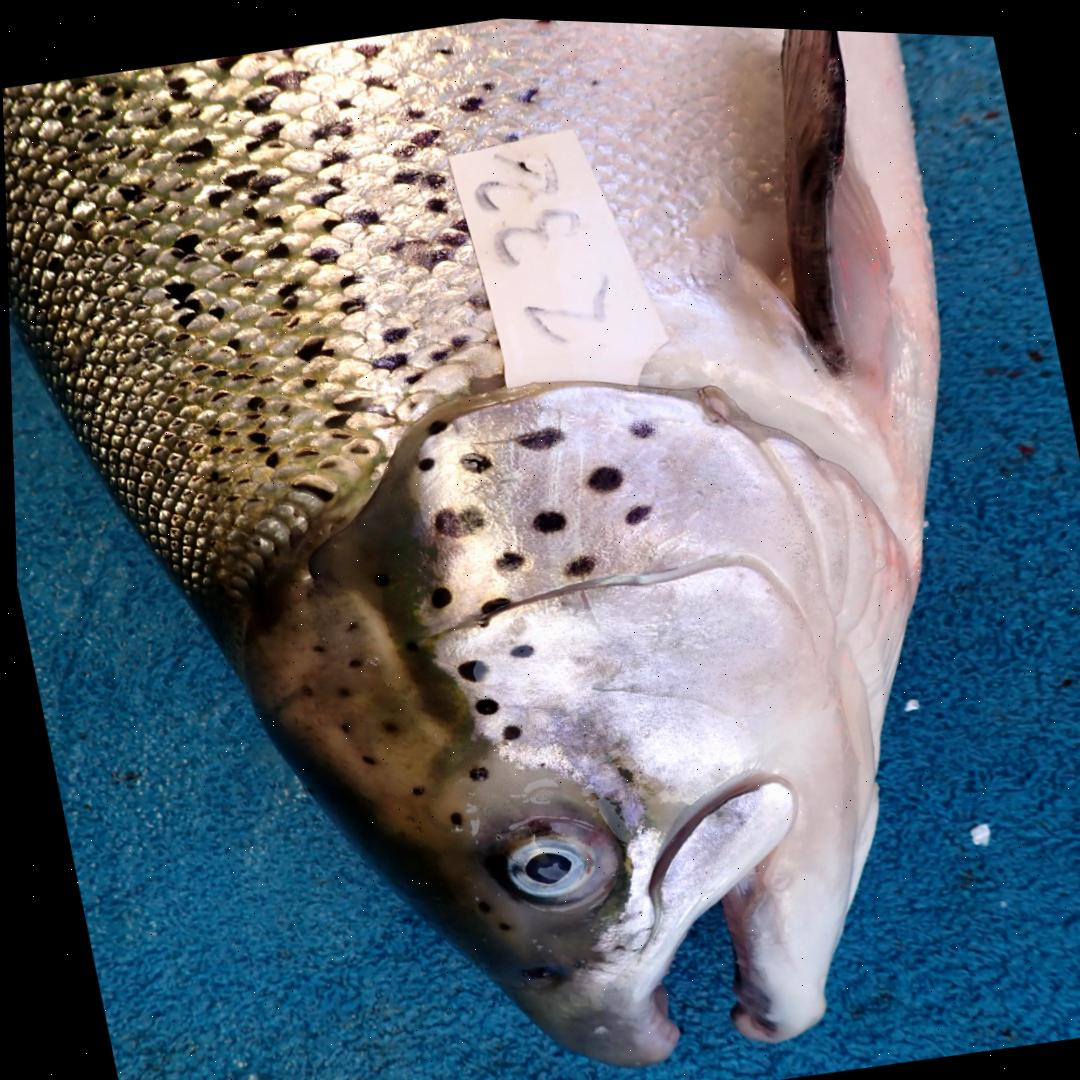spot: (430, 503, 481, 534), (582, 459, 621, 487), (512, 422, 559, 445), (528, 506, 563, 528), (561, 550, 593, 573), (453, 655, 483, 677), (456, 447, 487, 468), (491, 546, 521, 566), (620, 498, 648, 519), (625, 415, 653, 432), (477, 593, 506, 609), (427, 583, 448, 604), (469, 693, 494, 710), (496, 719, 517, 736), (506, 639, 530, 653), (424, 416, 446, 431), (613, 761, 630, 777), (415, 454, 431, 467)
